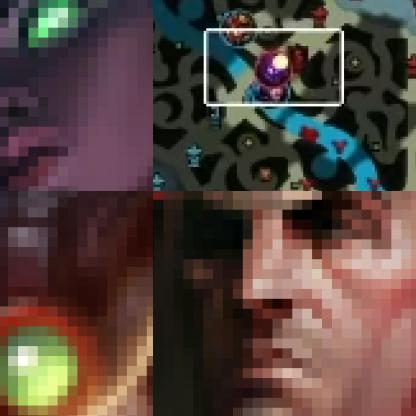Jarvan IV: (223, 13, 257, 46)
Leblanc: (255, 74, 291, 109)
Malzahar: (254, 52, 291, 88)
Senna: (0, 0, 152, 190)
Swain: (153, 191, 415, 415)
Ziggs: (0, 191, 152, 415)
